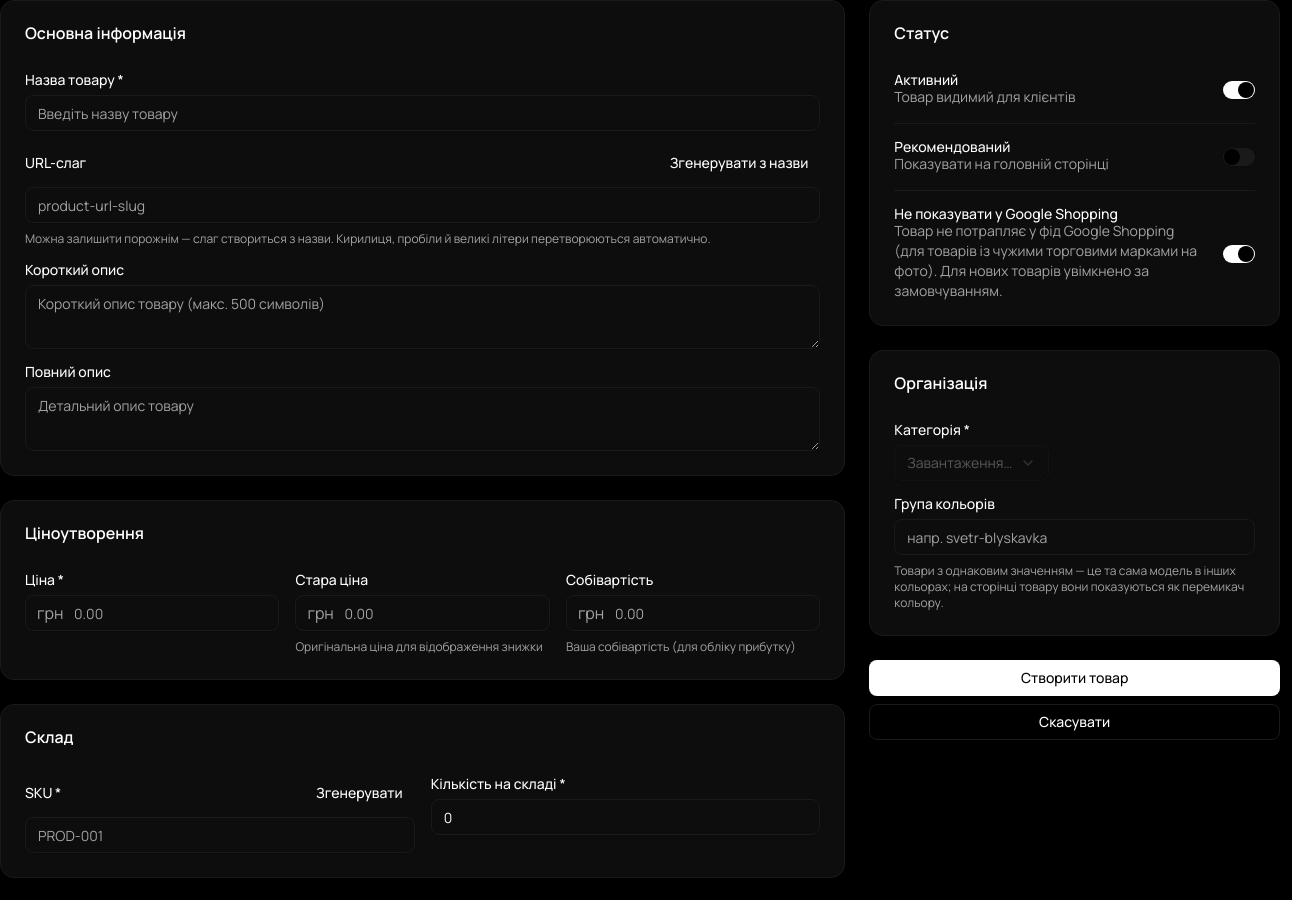
it: ProductForm — G24 intake safety › generates a transliterated slug from a Ukrainian name
The width and height of the screenshot is (1292, 900).
Type "Олімпійка з лампасами, чорна" into the field labelled "Назва товару *" at (423, 113), box [25,95,820,131]
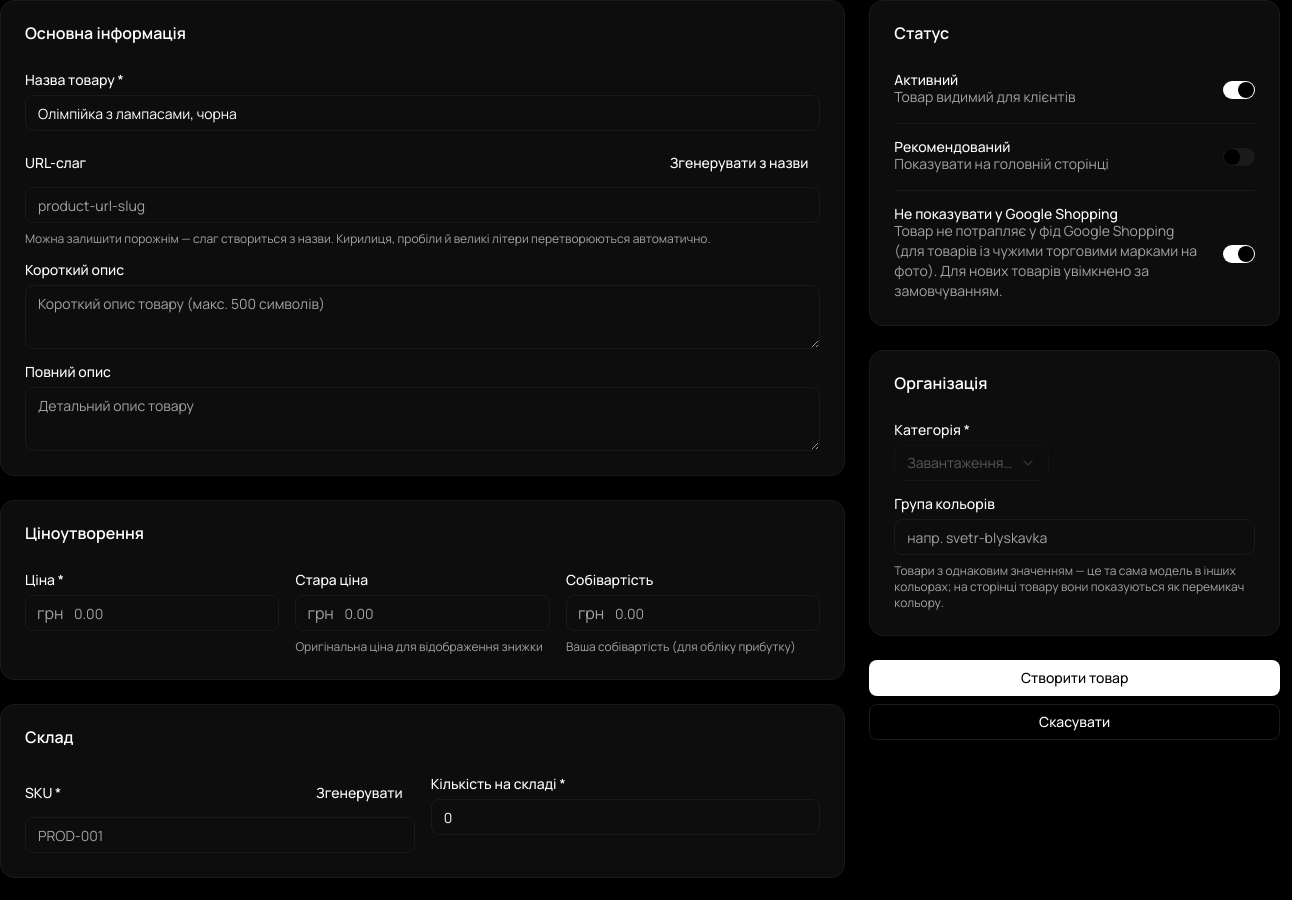
Click the button "Згенерувати з назви" at (739, 163), box [658,147,820,179]
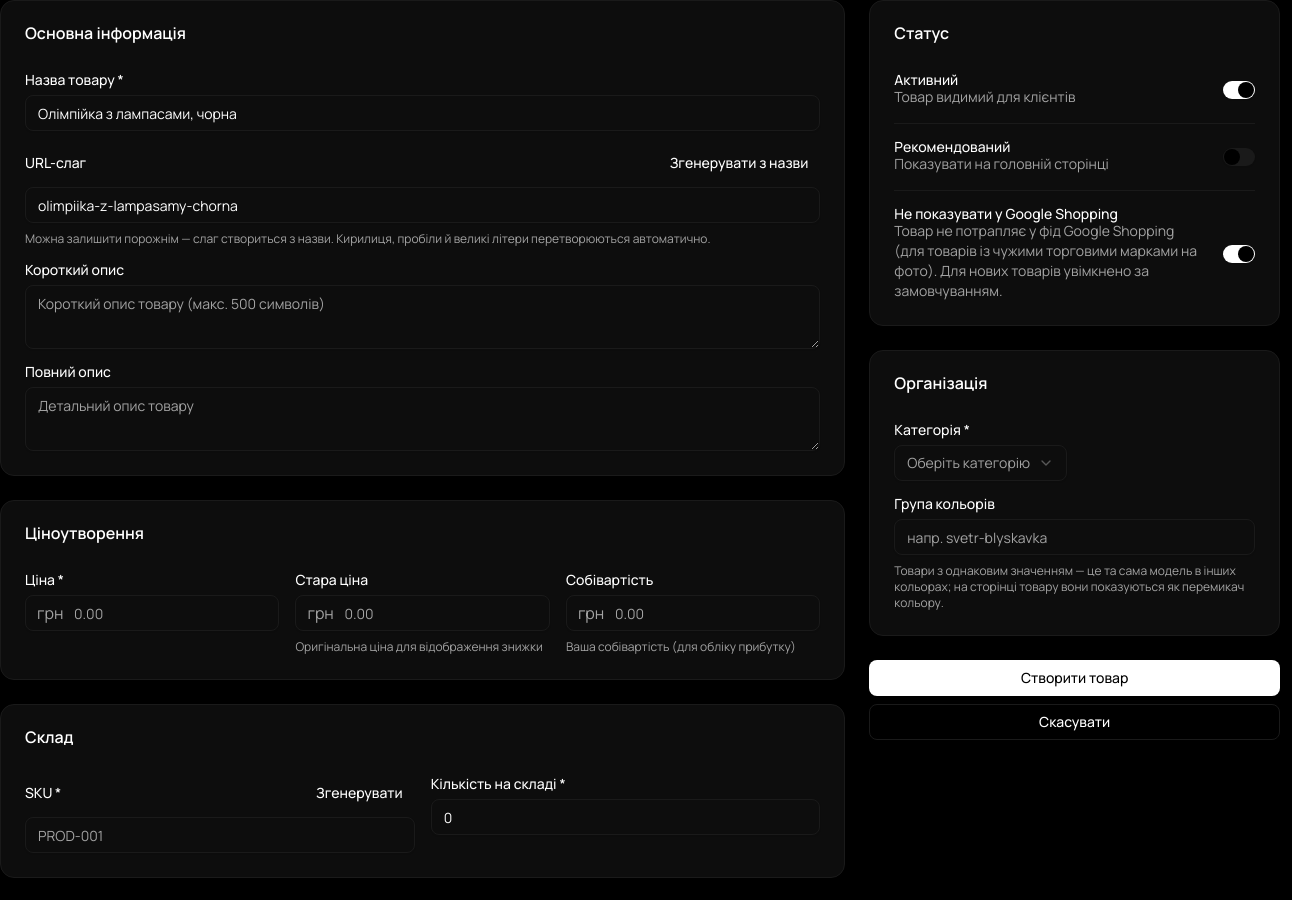
Expected: the field labelled "URL-слаг" holds "olimpiika-z-lampasamy-chorna", [25,187,820,223]
